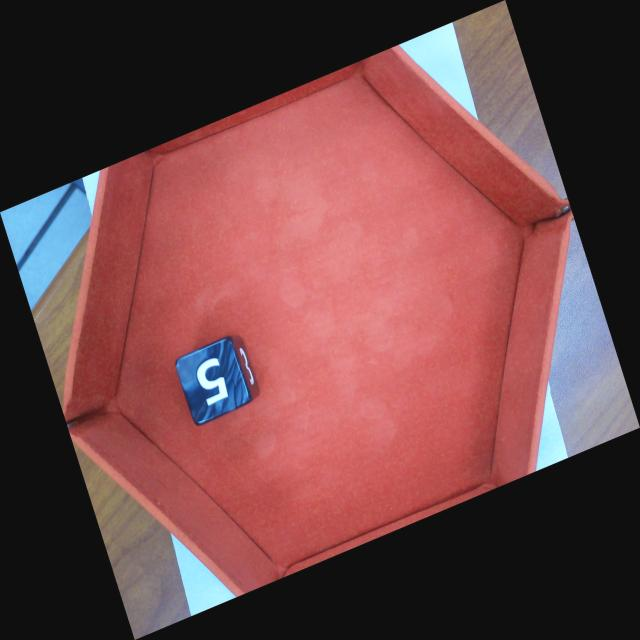dice: (176, 335, 253, 427)
